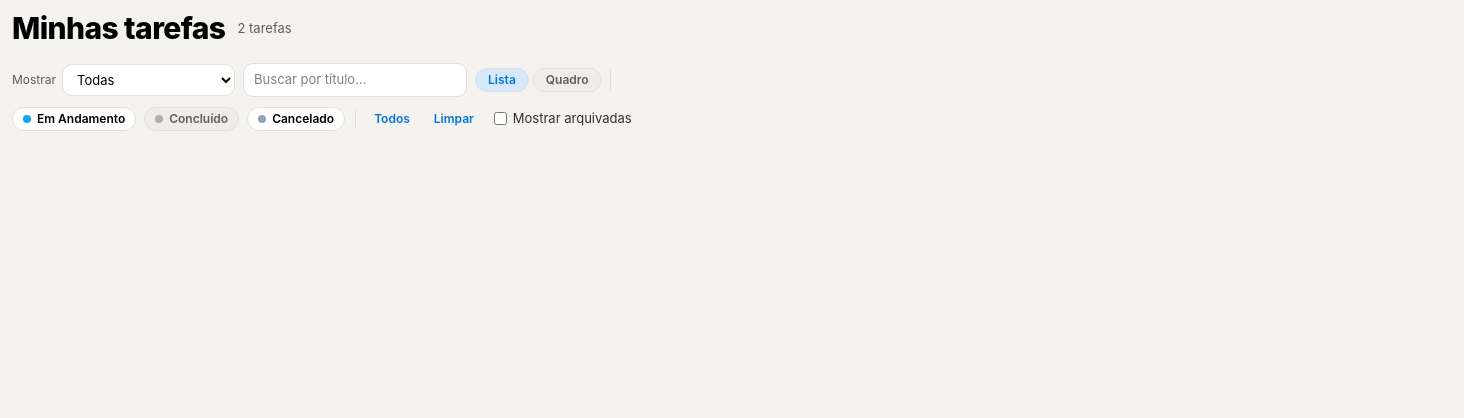
it: minhas-tarefas -- tarefa de outro quadro (fatia 5b-5b) › ⚠️ a tag do card so aparece para tarefa de OUTRO quadro
Click the button "Quadro" at (567, 80), box [533,68,602,92]
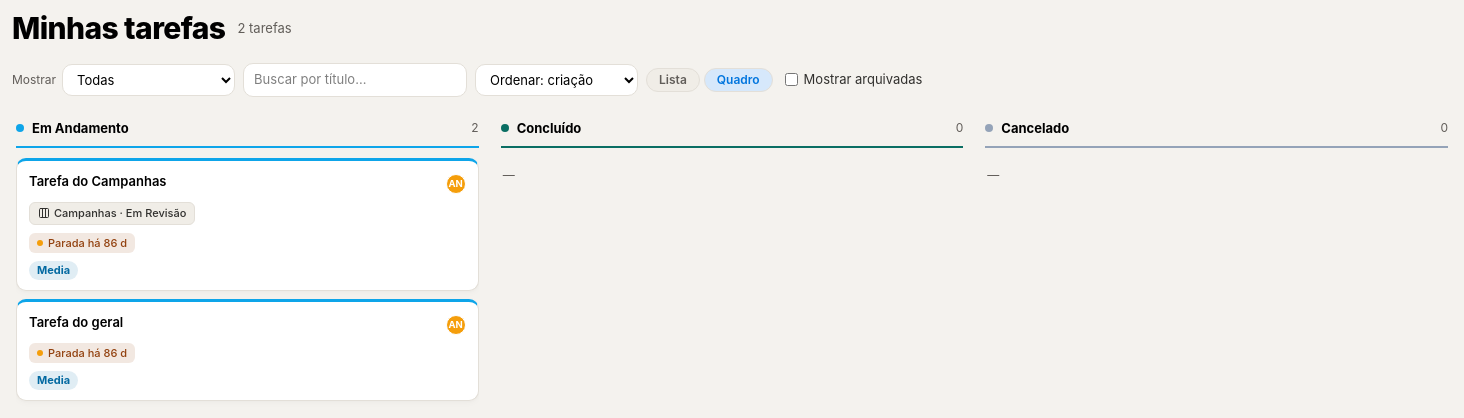
Result: the text "Tarefa do geral" is shown at [29,314,123,330]
Result: the text "Campanhas · Em Revisão" is shown at [54,205,186,222]
Result: the text "Em Andamento" is shown once at [32,118,129,138]
